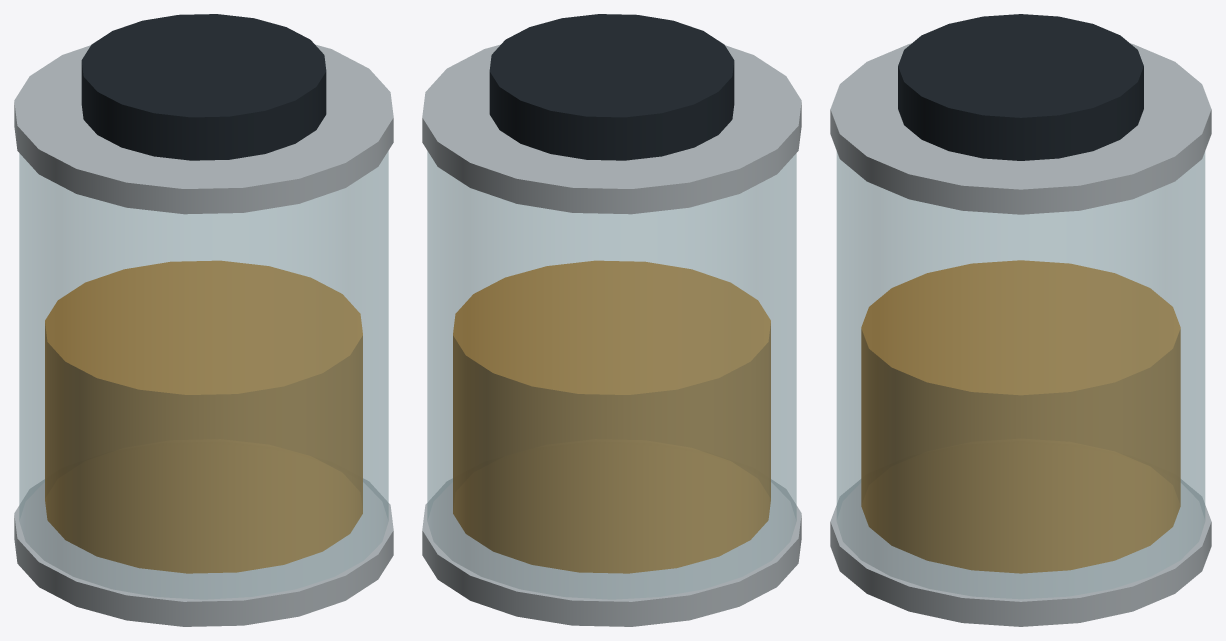
The model's file is catalogue-enzyme.glb.
The picture shows the model from 3 angles, left to right: view 1: azimuth 30°, elevation 25°; view 2: azimuth 150°, elevation 25°; view 3: azimuth 270°, elevation 25°; orthographic projection.
Size of the model in its own units: 0.62 by 0.8625 by 0.62.
